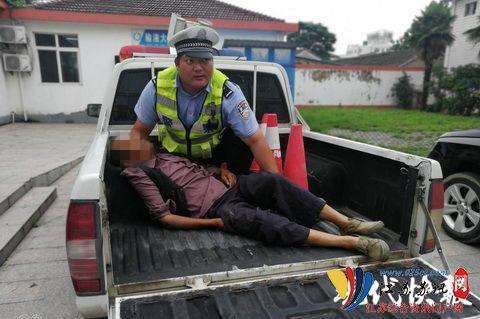Fall-Detected: (98, 126, 396, 261)
